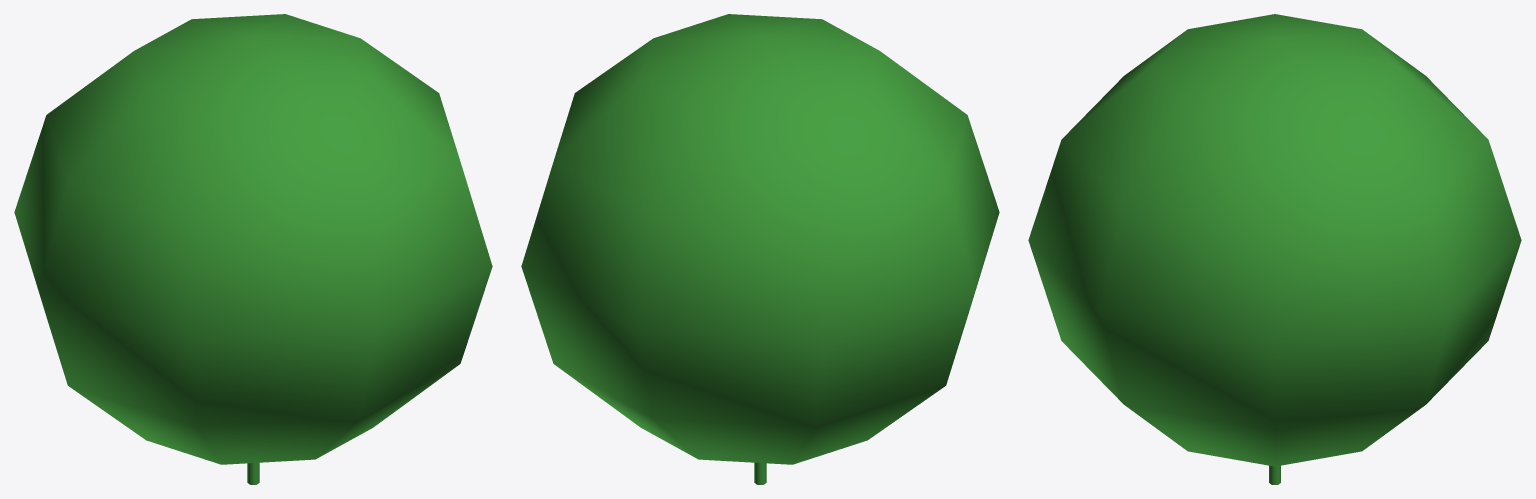
File: plant-lod-blob--l.glb
3 views of the same model, side by side, from view 1: azimuth 30°, elevation 25°; view 2: azimuth 150°, elevation 25°; view 3: azimuth 270°, elevation 25° (orthographic).
Visible parts, largest first — view 1: blob; view 2: blob; view 3: blob.
Boxes of the visible parts, x1=… form: blob: x1=14, y1=14, x2=492, y2=464; blob: x1=521, y1=14, x2=999, y2=464; blob: x1=1028, y1=14, x2=1521, y2=466.
Bounding box in the file's own units: 0.65 × 0.645 × 0.65.
